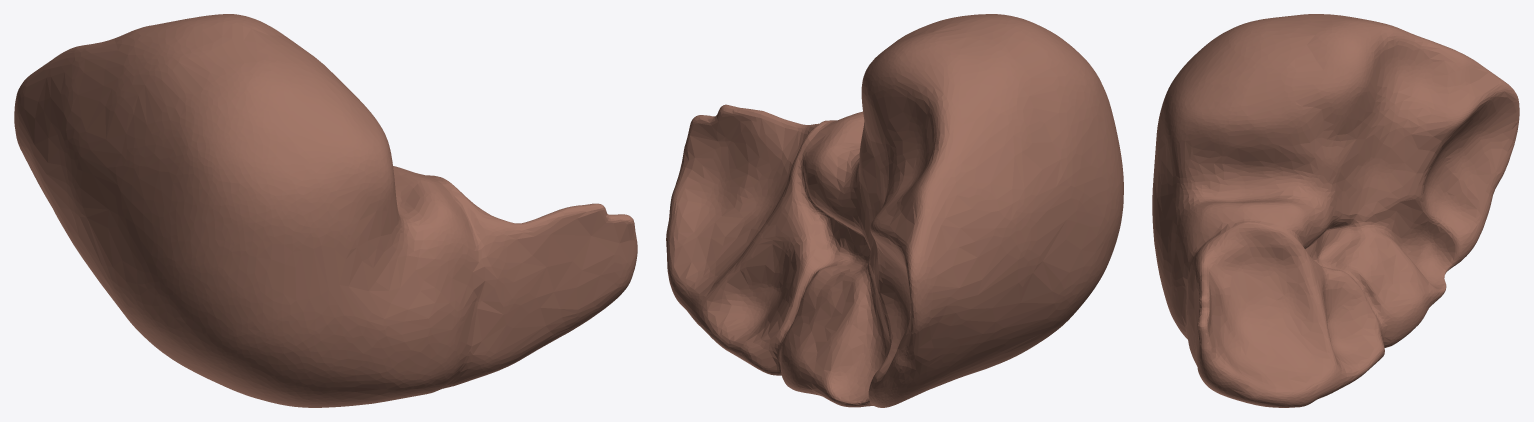
Rendered from foie.glb.
3 renders of one model, left to right at view 1: azimuth 30°, elevation 25°; view 2: azimuth 150°, elevation 25°; view 3: azimuth 270°, elevation 25°, orthographic. The views are drawn at different scales.
Parts seen in each view (by area): view 1: FMA7197.stl; view 2: FMA7197.stl; view 3: FMA7197.stl.
Boxes of the visible parts, x1,y1,x2,y2 form: FMA7197.stl: (14,14,637,407); FMA7197.stl: (666,14,1123,407); FMA7197.stl: (1152,14,1519,407).
Size of the model in its own units: 1.31 by 0.9871 by 1.14.
